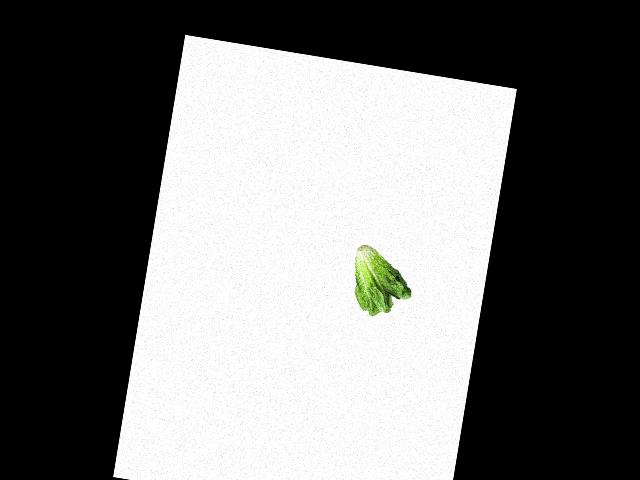lettuce: (343, 245, 421, 322)
